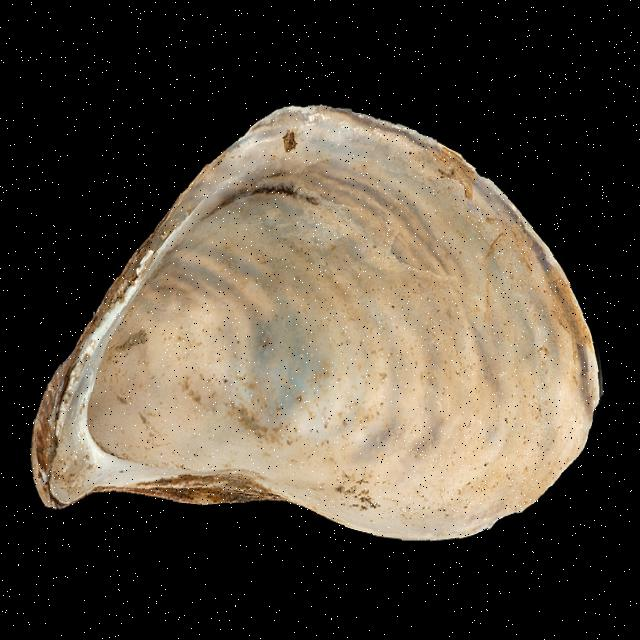Dreissena_bugensis: (30, 103, 609, 544)
